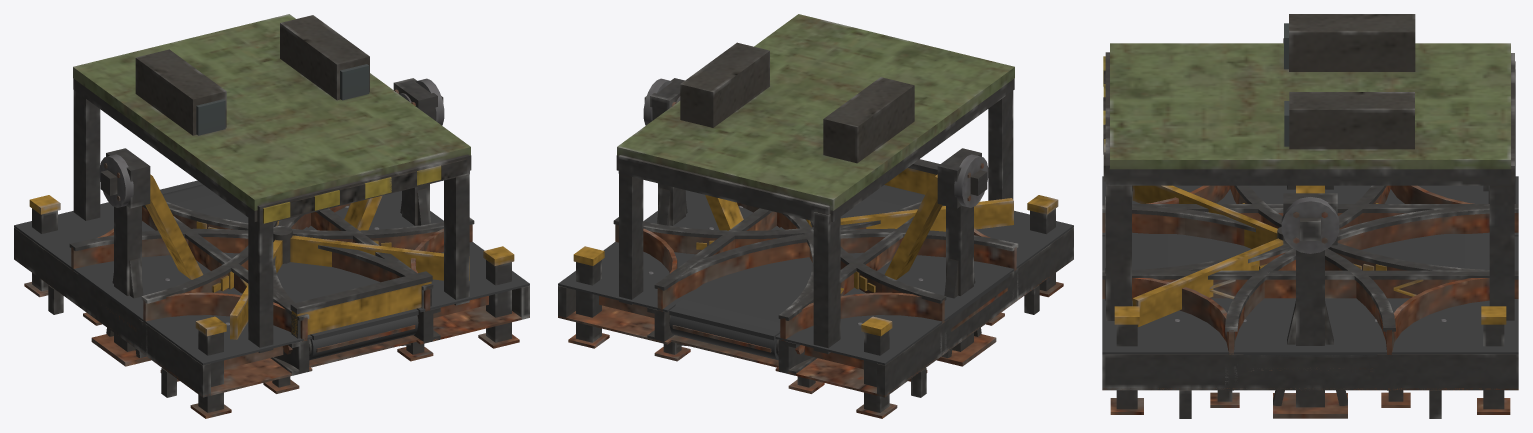
The model's file is feBeltTunnel_HD.fbx.
The picture shows the model from 3 angles, left to right: view 1: azimuth 30°, elevation 25°; view 2: azimuth 150°, elevation 25°; view 3: azimuth 270°, elevation 25°; orthographic projection. The views are drawn at different scales.
Parts seen in each view (by area): view 1: FeBeltExtra_Tunnel, FeBeltFill_R, FeBeltBed, FeBeltDrive_R, FeJunctionPosts, FeBeltFill_L, FeBeltEnd, FeMergeRail_R, FeMerge_R, FeJunctionWedge, FeCurveRail_L, FeBeltDrive_L (+7 smaller); view 2: FeBeltExtra_Tunnel, FeBeltFill_R, FeBeltBed, FeBeltDrive_R, FeCurveRail_R, FeBeltFill_L, FeCurveSet_R, FeJunctionPosts, FeCurveSet_L, FeMergeRail_L, FeBeltDrive_L, FeJunctionWedge (+8 smaller); view 3: FeBeltExtra_Tunnel, FeBeltFill_L, FeBeltBed, FeCurveRail_L, FeBeltDrive_L, FeRail_L, FeJunctionWedge, FeMergeRail_L, FeCurveSet_L, FeJunctionPosts, FeBeltFill_R, FeMerge_L (+6 smaller).
Boxes of the visible parts, x1=… form: FeBeltExtra_Tunnel: x1=73, y1=14, x2=471, y2=352; FeBeltFill_R: x1=14, y1=202, x2=312, y2=397; FeBeltBed: x1=162, y1=184, x2=440, y2=375; FeBeltDrive_R: x1=91, y1=148, x2=203, y2=366; FeJunctionPosts: x1=24, y1=195, x2=519, y2=418; FeBeltFill_L: x1=308, y1=191, x2=529, y2=344; FeBeltEnd: x1=290, y1=271, x2=432, y2=338; FeMergeRail_R: x1=69, y1=228, x2=433, y2=310; FeMerge_R: x1=89, y1=260, x2=433, y2=393; FeJunctionWedge: x1=230, y1=226, x2=469, y2=339; FeCurveRail_L: x1=166, y1=201, x2=474, y2=249; FeBeltDrive_L: x1=344, y1=78, x2=437, y2=230; FeBeltExtra_Tunnel: x1=616, y1=14, x2=1014, y2=353; FeBeltFill_R: x1=775, y1=210, x2=1073, y2=397; FeBeltBed: x1=647, y1=185, x2=924, y2=375; FeBeltDrive_R: x1=884, y1=148, x2=996, y2=366; FeCurveRail_R: x1=654, y1=228, x2=1018, y2=310; FeBeltFill_L: x1=558, y1=190, x2=779, y2=344; FeCurveSet_R: x1=655, y1=259, x2=997, y2=393; FeJunctionPosts: x1=568, y1=195, x2=1063, y2=418; FeCurveSet_L: x1=615, y1=198, x2=788, y2=373; FeMergeRail_L: x1=613, y1=201, x2=921, y2=254; FeBeltDrive_L: x1=650, y1=78, x2=743, y2=230; FeJunctionWedge: x1=806, y1=198, x2=1013, y2=231; FeBeltExtra_Tunnel: x1=1103, y1=14, x2=1515, y2=320; FeBeltFill_L: x1=1102, y1=298, x2=1518, y2=418; FeBeltBed: x1=1132, y1=234, x2=1489, y2=269; FeCurveRail_L: x1=1225, y1=204, x2=1518, y2=354; FeBeltDrive_L: x1=1273, y1=193, x2=1347, y2=418; FeRail_L: x1=1102, y1=270, x2=1518, y2=298; FeJunctionWedge: x1=1132, y1=185, x2=1283, y2=326; FeMergeRail_L: x1=1102, y1=204, x2=1395, y2=354; FeCurveSet_L: x1=1225, y1=236, x2=1518, y2=407; FeJunctionPosts: x1=1110, y1=185, x2=1510, y2=414; FeBeltFill_R: x1=1102, y1=176, x2=1518, y2=236; FeMerge_L: x1=1102, y1=236, x2=1395, y2=407.
Bounding box in the file's own units: 1.02 × 0.7118 × 1.
Materials: 2 (1 with a texture image).
